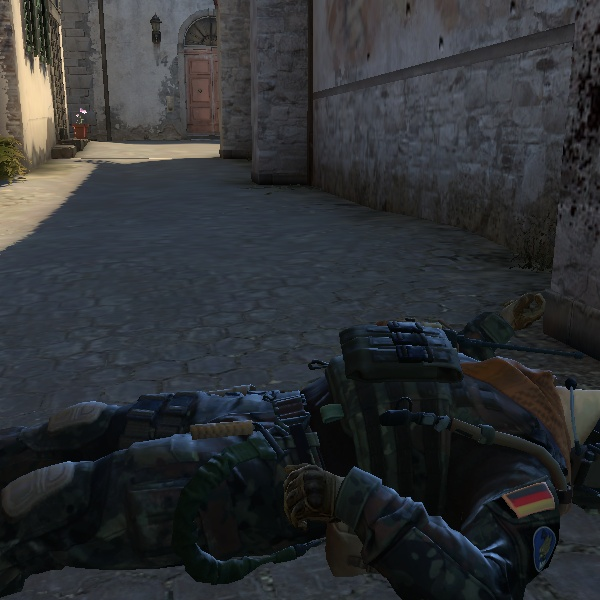t_body: (70, 104, 91, 152)
